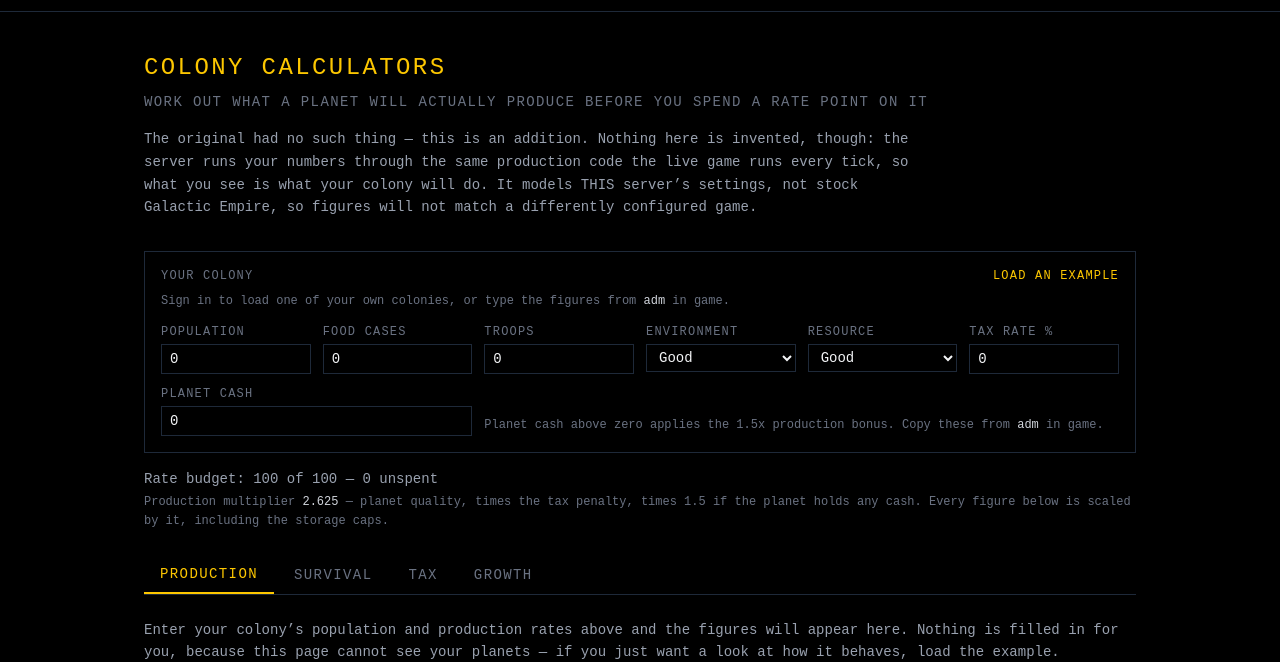
Scenario: Calculators › warns on the survival tab when a fed colony is rolling to revolt
Expected: the text "Rate budget: 100 of 100 — 0 unspent" is shown, [144,470,438,486]
Click the button "Load an example" at (1056, 276), box [993,268,1119,284]
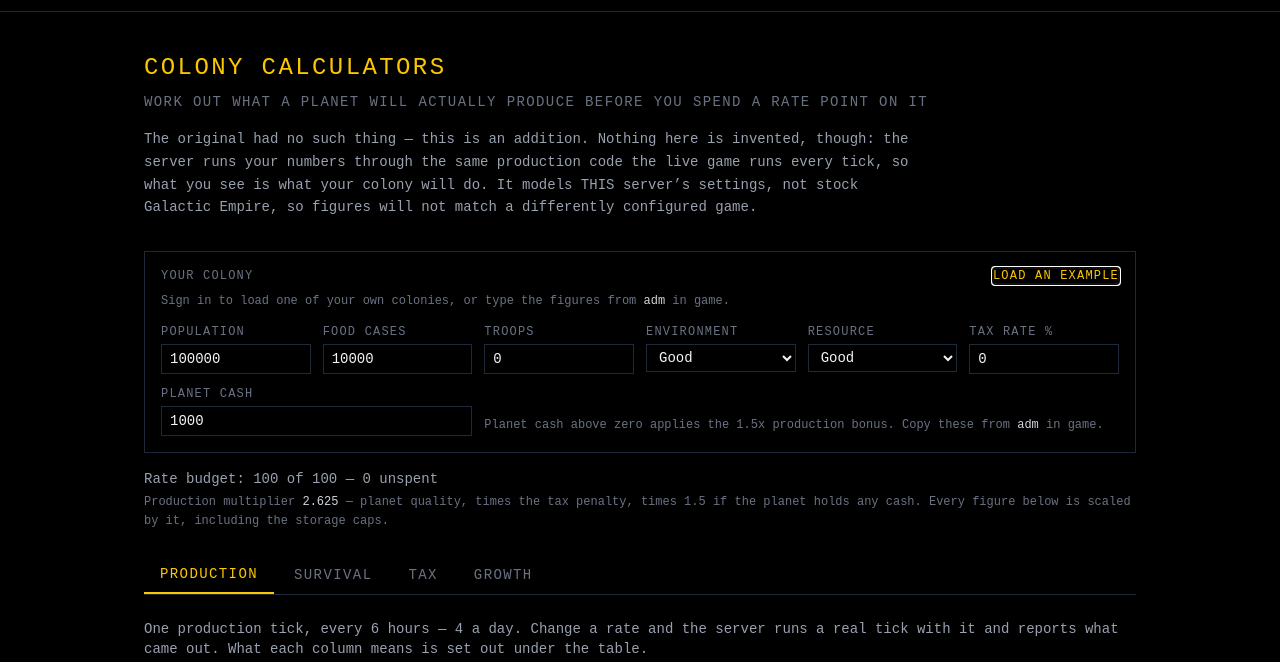
Click the tab "Survival" at (333, 574), box [278,556,388,594]
(page scrolled)
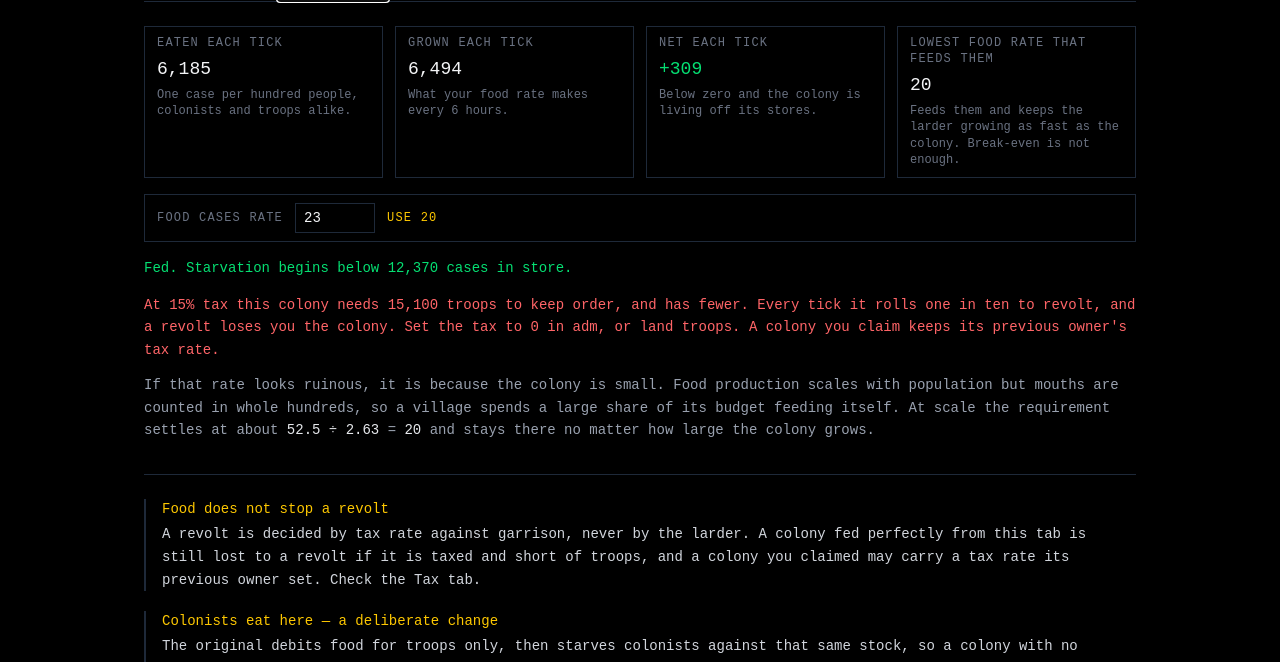
Expected: the text with test id "revolt-risk" shows "15% tax", [169,296,228,312]
Expected: the text with test id "revolt-risk" shows "15,100 troops", [144,294,1136,362]
Expected: the text with test id "revolt-risk" shows "one in ten", [144,296,1135,335]
